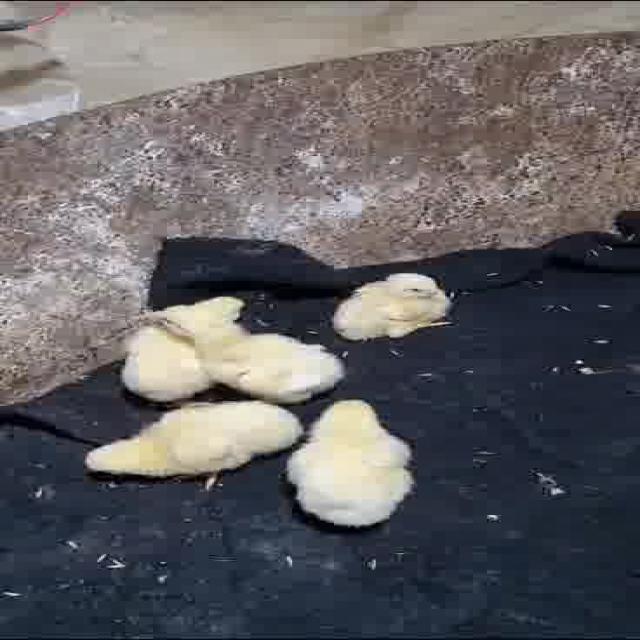poussin: (145, 306, 343, 400), (294, 398, 423, 528), (92, 402, 300, 478), (120, 293, 252, 402), (329, 272, 463, 342)
